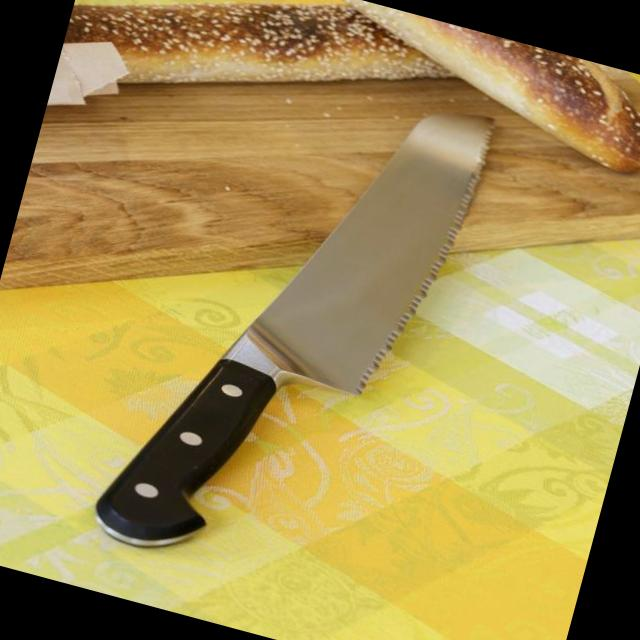Knife: (95, 114, 491, 546)
